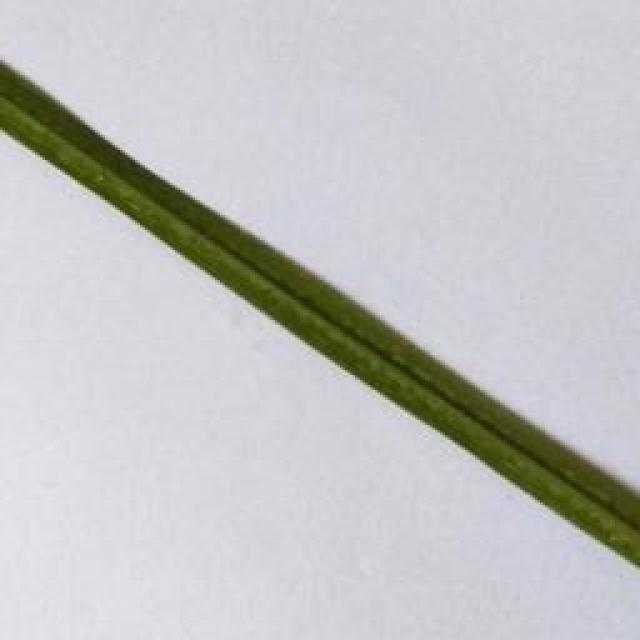Healthy-Plant: (0, 59, 640, 566)
